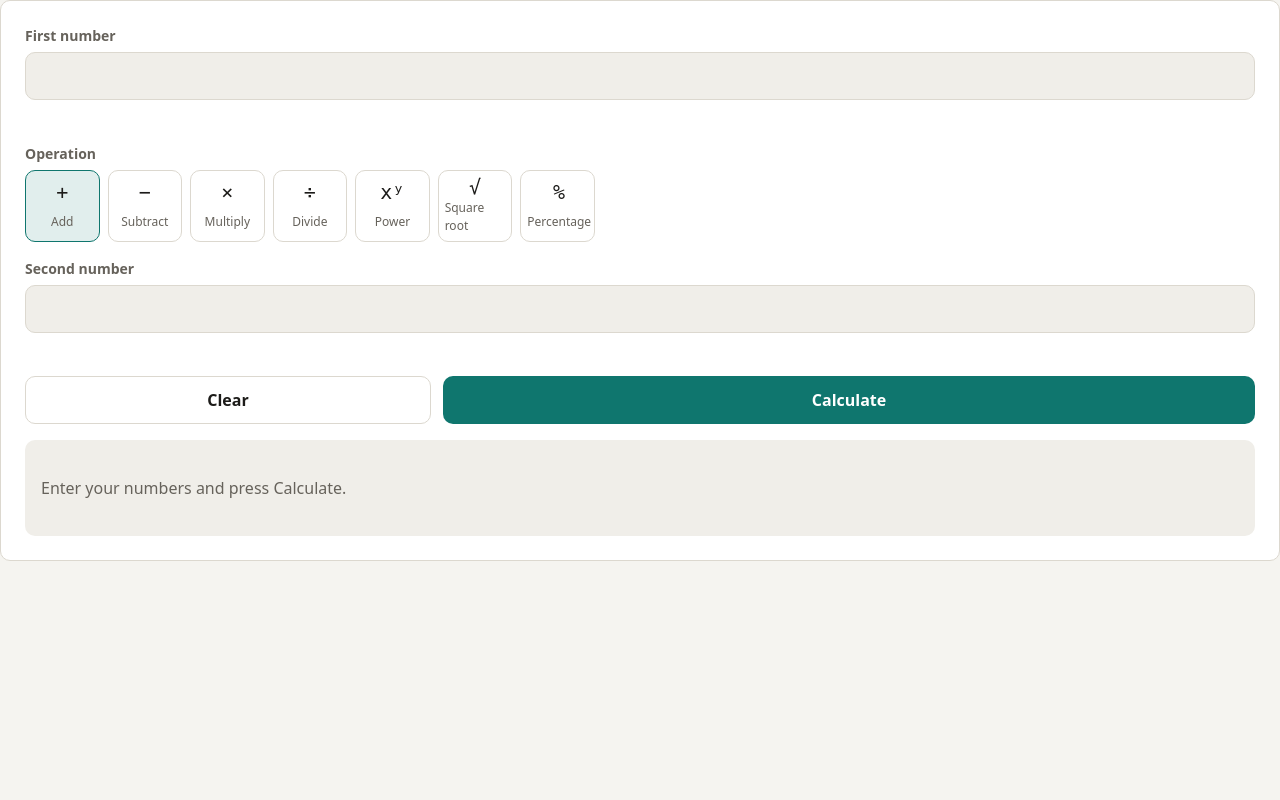
Test: Calculator › shows a friendly message when the API rejects the operation
Type "1" into the field labelled "First number".
click(640, 76); type("1")  # box [25,52,1255,100]
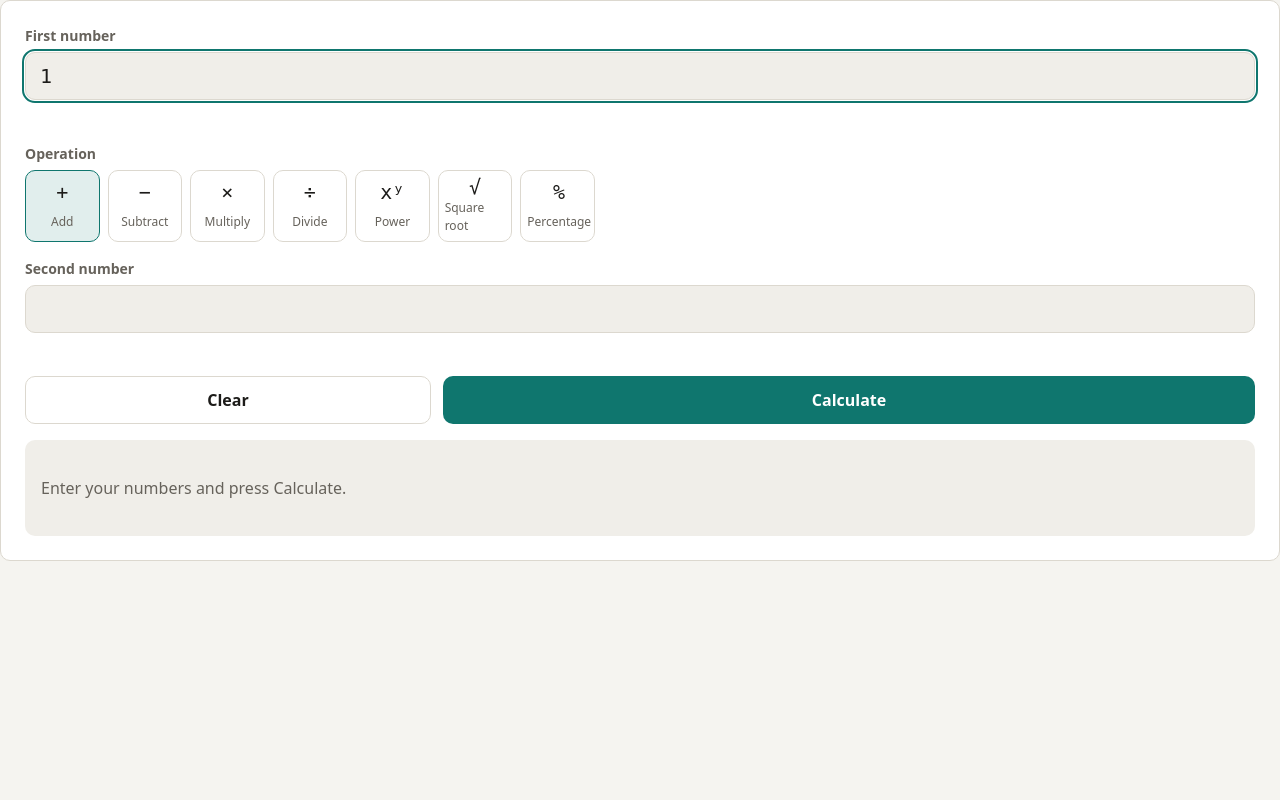
Click the radio button labelled "Divide".
click(310, 206)  # box [273,170,347,242]
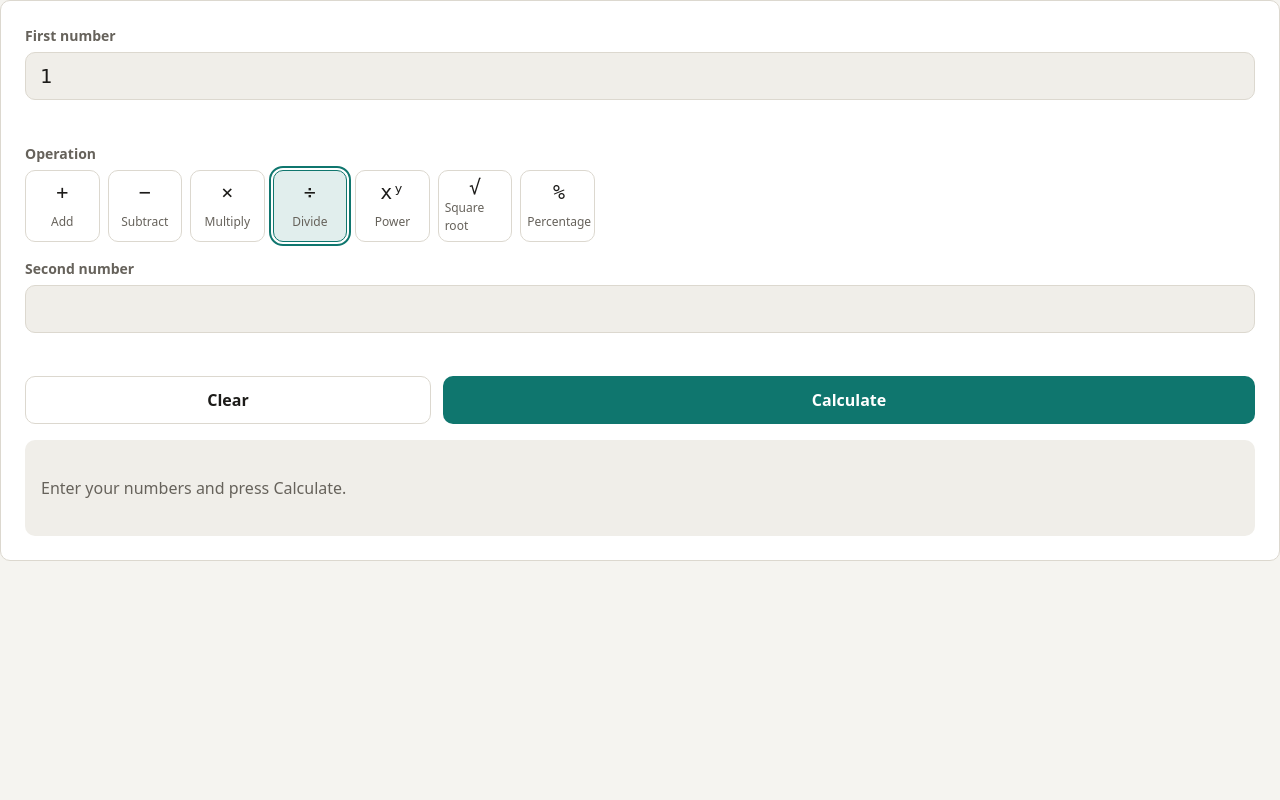
Type "0" into the field labelled "Second number".
click(640, 309); type("0")  # box [25,285,1255,333]
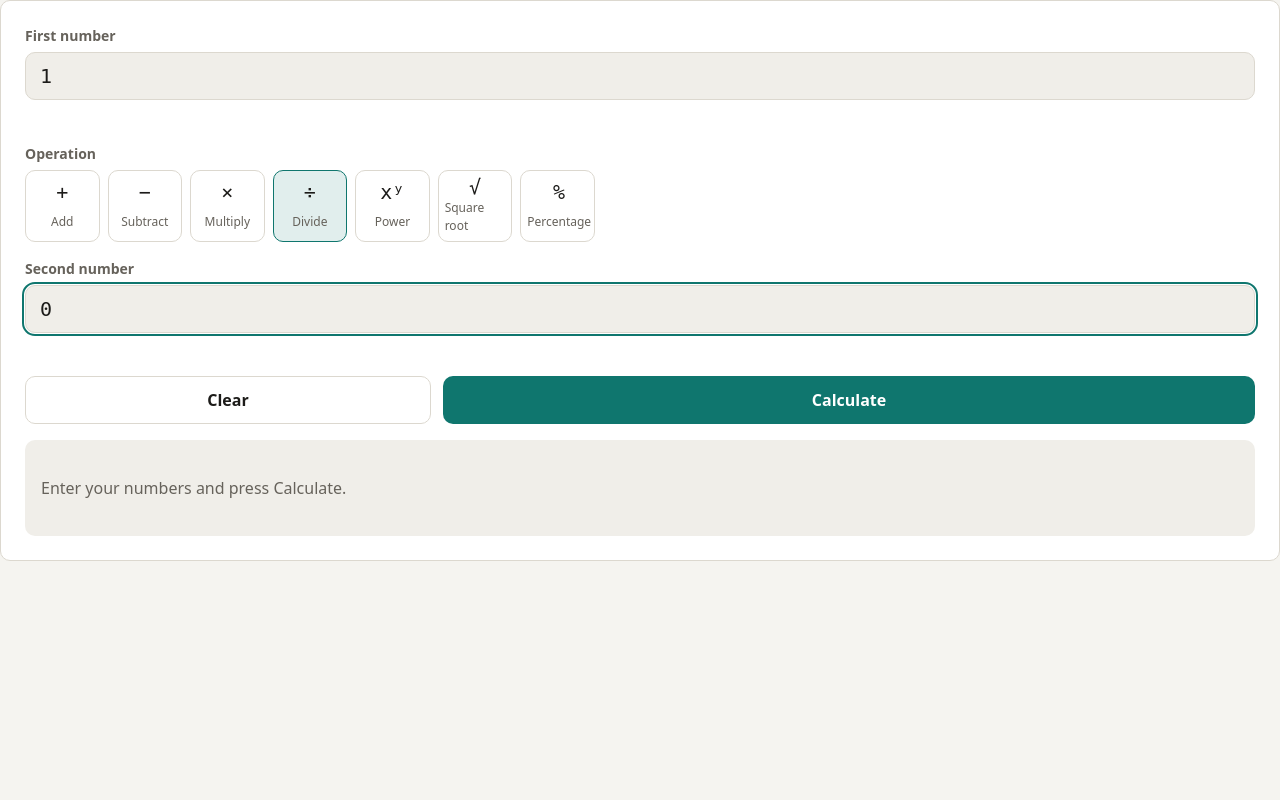
Click the button "Calculate".
click(849, 400)  # box [443,376,1255,424]
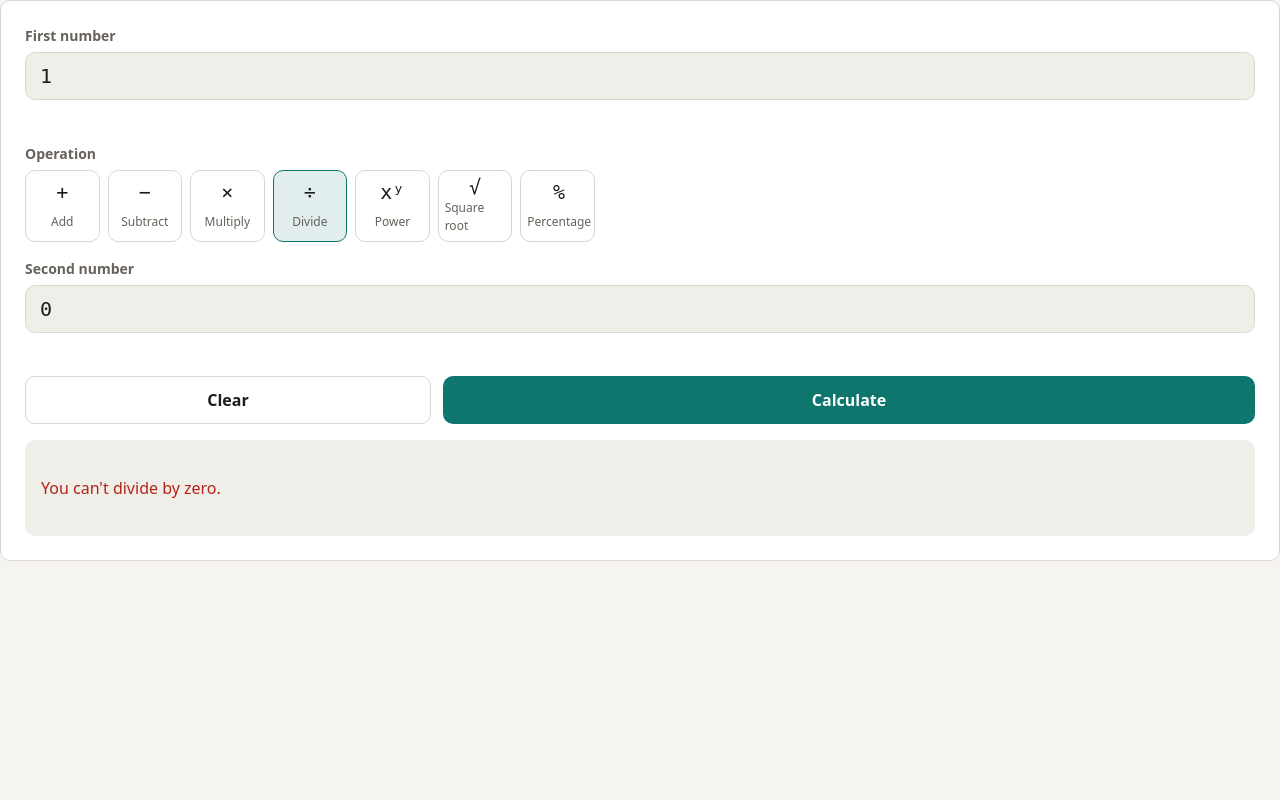
Expected: the text "You can't divide by zero." is shown, [41,477,221,499]
